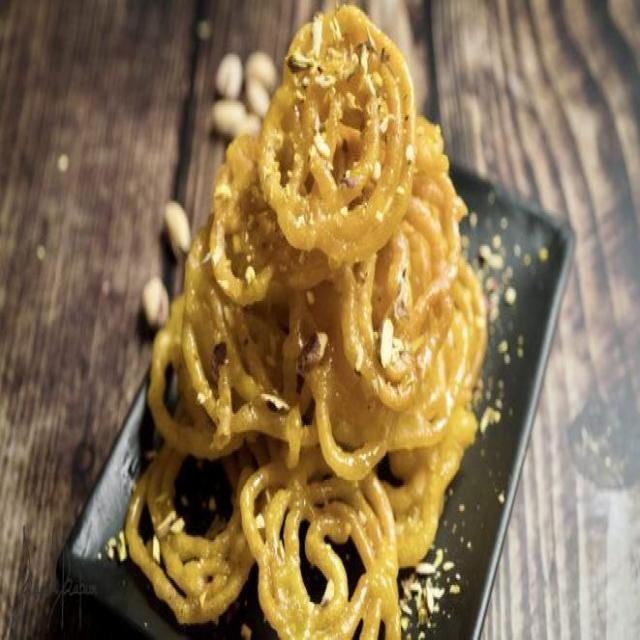jalebi: (156, 1, 457, 640)
